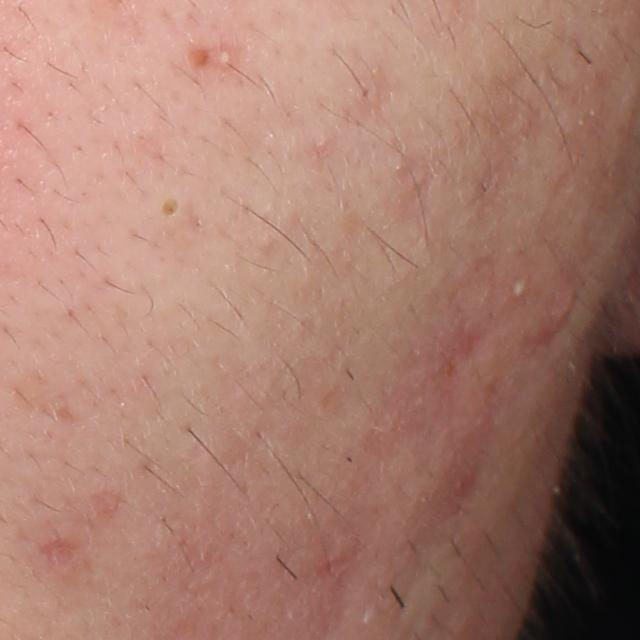atrophic_scar: (35, 534, 86, 570)
comedo: (156, 195, 182, 224)
pustule: (509, 270, 534, 300)
